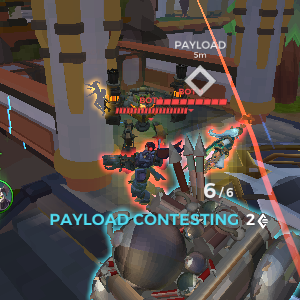model: (125, 134, 167, 214), (200, 118, 246, 185), (90, 78, 113, 120)
